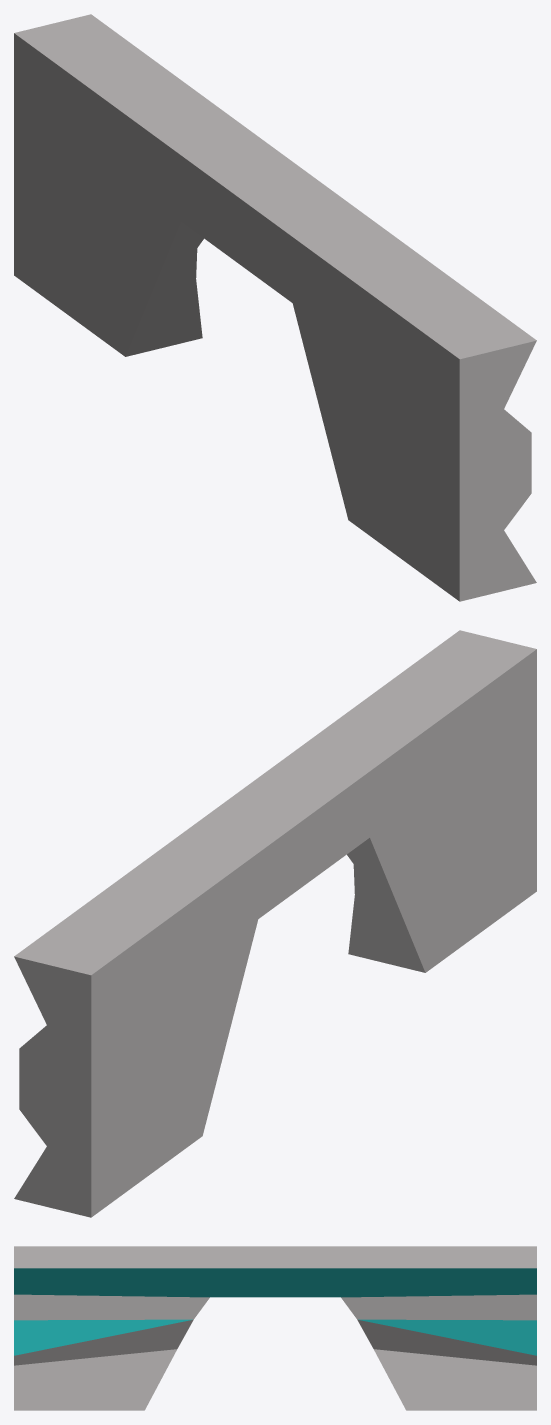
Rendered from Doorwallblue.fbx.
The picture shows the model from 3 angles, top to bottom: view 1: azimuth 30°, elevation 25°; view 2: azimuth 150°, elevation 25°; view 3: azimuth 270°, elevation 25°; orthographic projection. The views are drawn at different scales.
Parts seen in each view (by area): view 1: Cube; view 2: Cube; view 3: Cube.
Part boxes in pixels (x1=…): Cube: x1=14, y1=14, x2=536, y2=601; Cube: x1=14, y1=630, x2=536, y2=1217; Cube: x1=14, y1=1246, x2=536, y2=1410.
Bounding box in the file's own units: 20 × 60 × 200.
